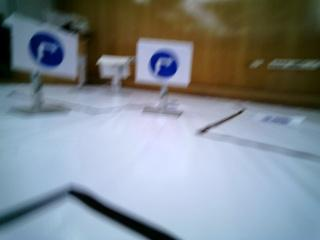right: (15, 14, 73, 75), (141, 40, 193, 85)
